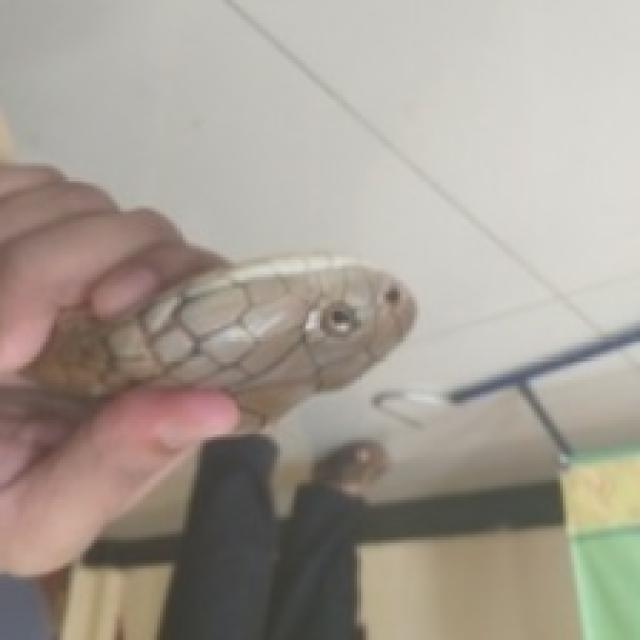king cobra: (23, 254, 411, 426)
